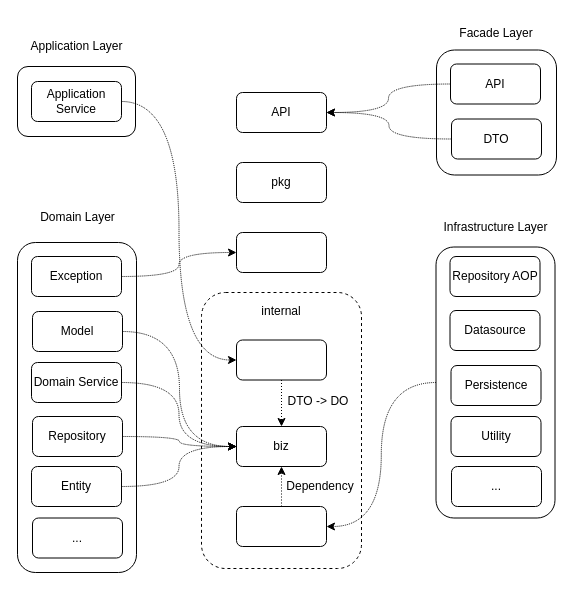
This 577x590 diagram has some shape labels left out. The centre of each missing label's shape, as x and y in pixels:
"data" goes at point 281,526.
"errors" goes at point 281,252.
"Service" goes at point 281,359.
